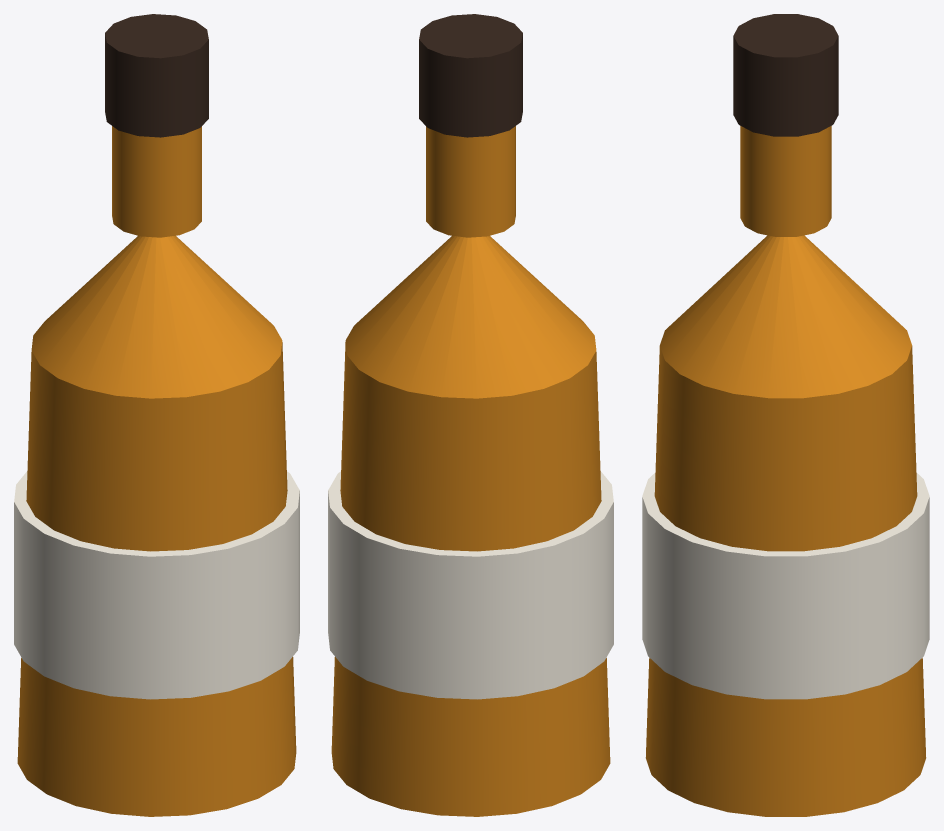
The model's file is wok_food_oil.glb.
3 renders of one model, left to right at view 1: azimuth 30°, elevation 25°; view 2: azimuth 150°, elevation 25°; view 3: azimuth 270°, elevation 25°, orthographic.
Bounding box in the file's own units: 0.0812 × 0.2275 × 0.082.
